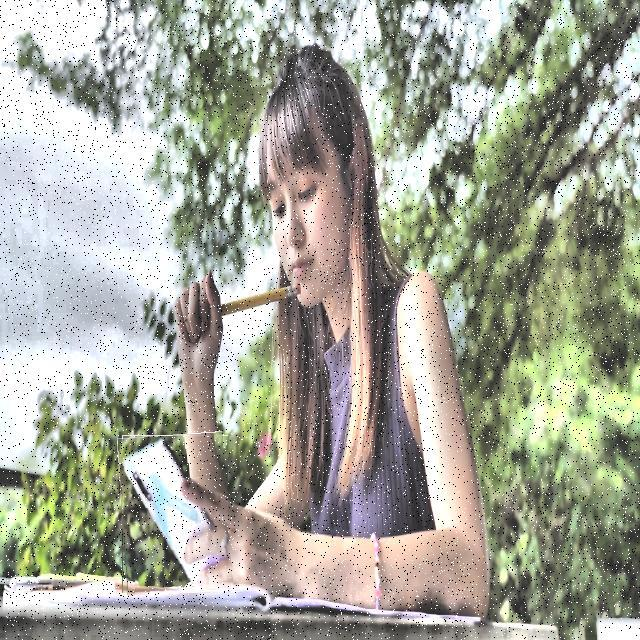Phone: (120, 433, 230, 594)
